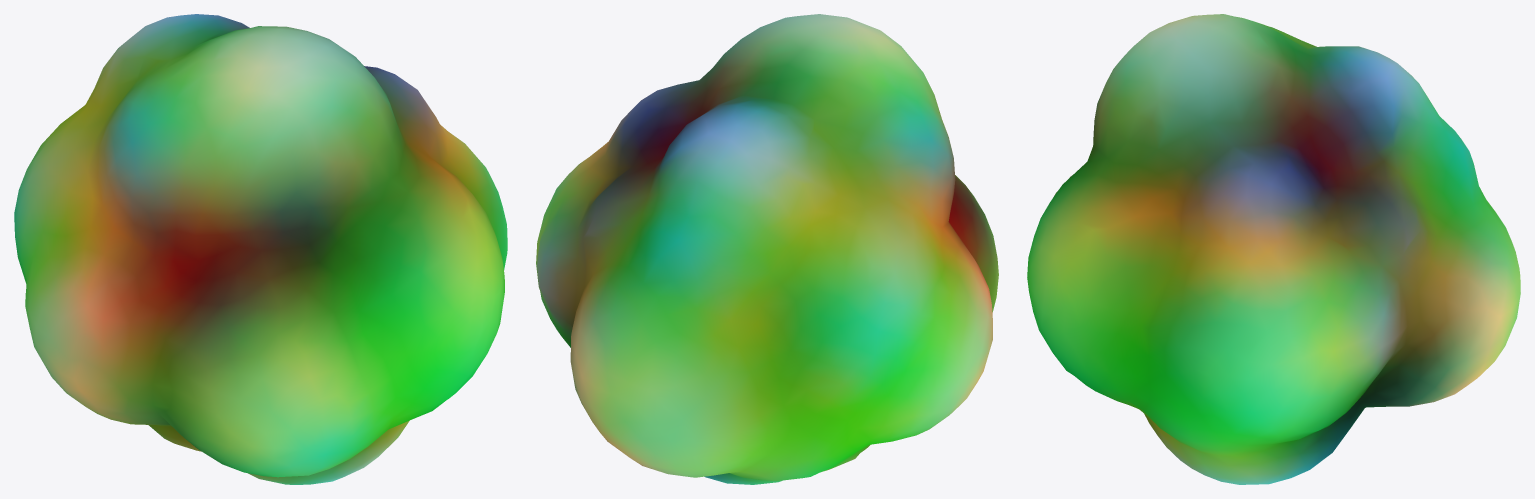
The model's file is MS_Puff_01.fbx.
3 views of the same model, side by side, from view 1: azimuth 30°, elevation 25°; view 2: azimuth 150°, elevation 25°; view 3: azimuth 270°, elevation 25° (orthographic). The views are drawn at different scales.
Visible parts, largest first — view 1: MS_Puff_01; view 2: MS_Puff_01; view 3: MS_Puff_01.
Boxes of the visible parts, left/top/right/bottom form: MS_Puff_01: left=14, top=14, right=507, bottom=484; MS_Puff_01: left=536, top=14, right=998, bottom=484; MS_Puff_01: left=1027, top=14, right=1520, bottom=484.
Bounding box in the file's own units: 174 × 173 × 182.
